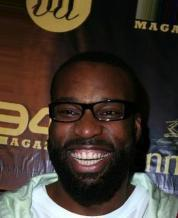face: (57, 95, 119, 173)
